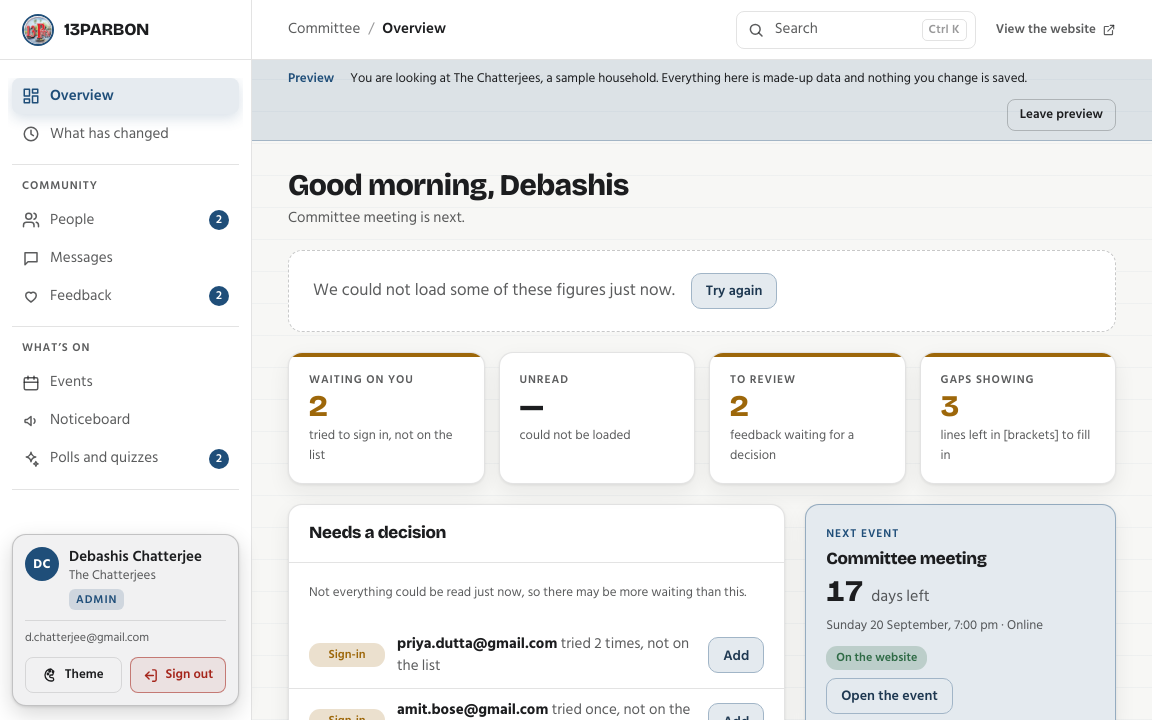
Test: when the committee screens cannot load › the overview tries every failed figure again
Expected: the text "We could not load some of these figures just now." is shown, [313,278,675,304]
Click the button "Try again": click(734, 291) [691,273,777,309]
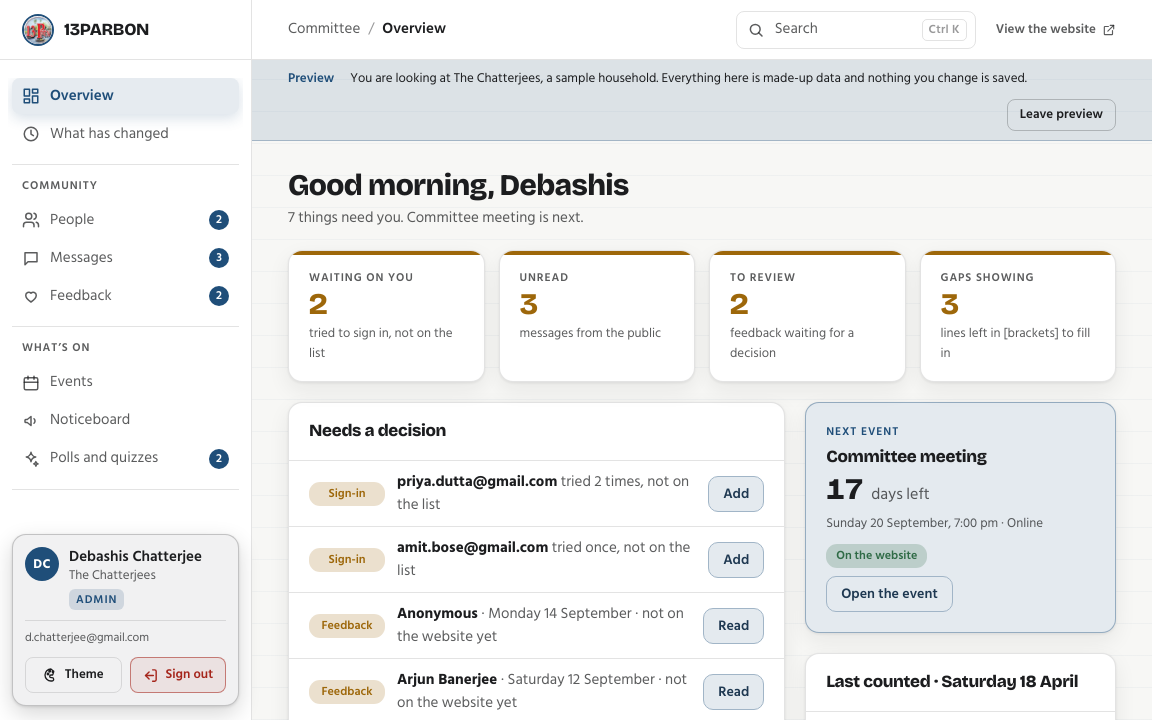
Result: the text "We could not load some of these figures just now." is gone
Result: the text "messages from the public" is shown at [520,324,674,344]
